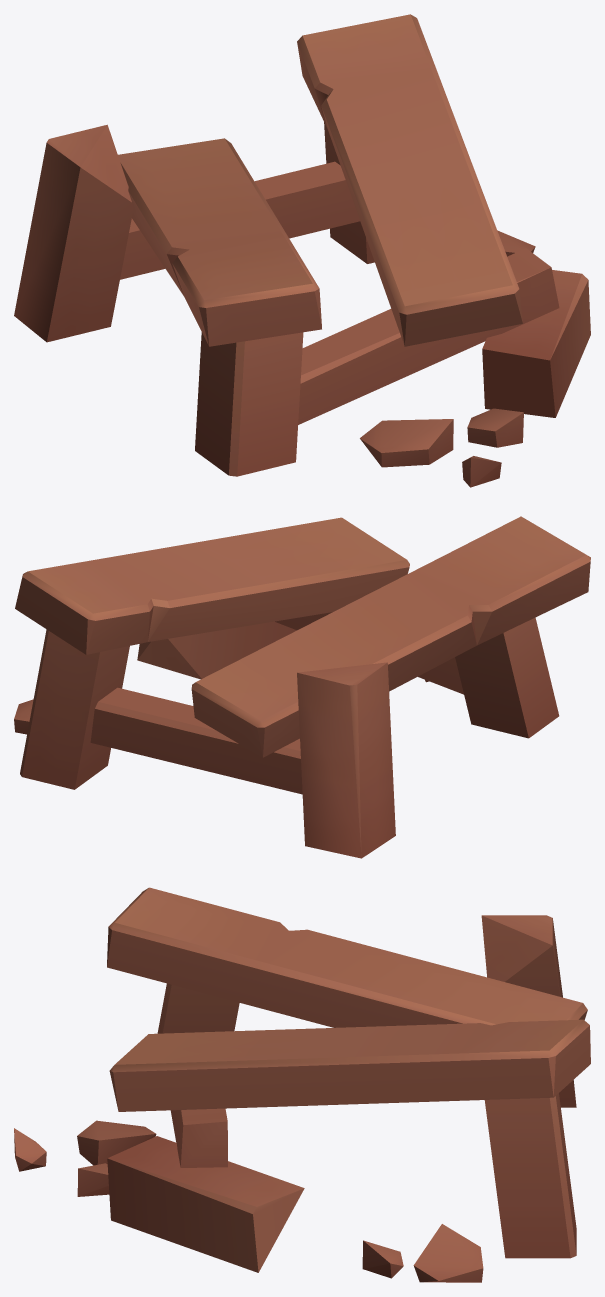
File: d_kaykit_table_cassee.glb
The picture shows the model from 3 angles, top to bottom: view 1: azimuth 30°, elevation 25°; view 2: azimuth 150°, elevation 25°; view 3: azimuth 270°, elevation 25°; orthographic projection. The views are drawn at different scales.
Visible parts, largest first — view 1: d_kaykit_table_cassee; view 2: d_kaykit_table_cassee; view 3: d_kaykit_table_cassee.
Part boxes in pixels (left/top/right/bottom): d_kaykit_table_cassee: left=14, top=14, right=590, bottom=487; d_kaykit_table_cassee: left=14, top=516, right=590, bottom=858; d_kaykit_table_cassee: left=14, top=887, right=590, bottom=1282.
Bounding box in the file's own units: 2.28 × 0.9718 × 2.43.
Materials: 1 (1 with a texture image).
